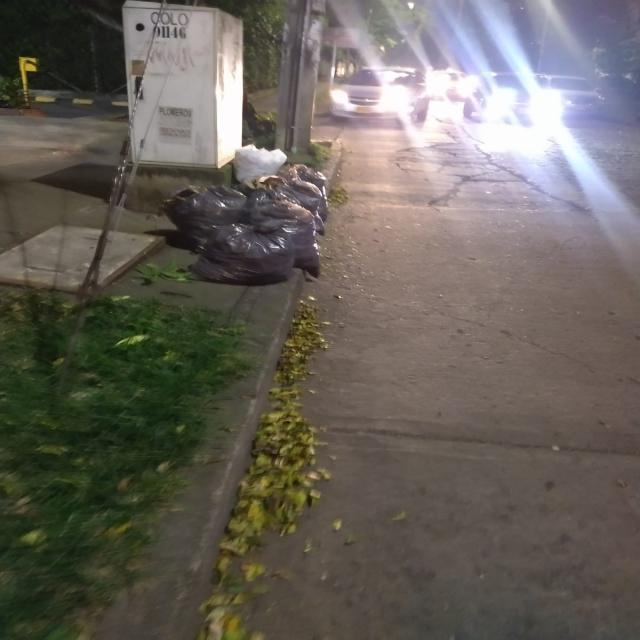high trash: (164, 145, 328, 284)
